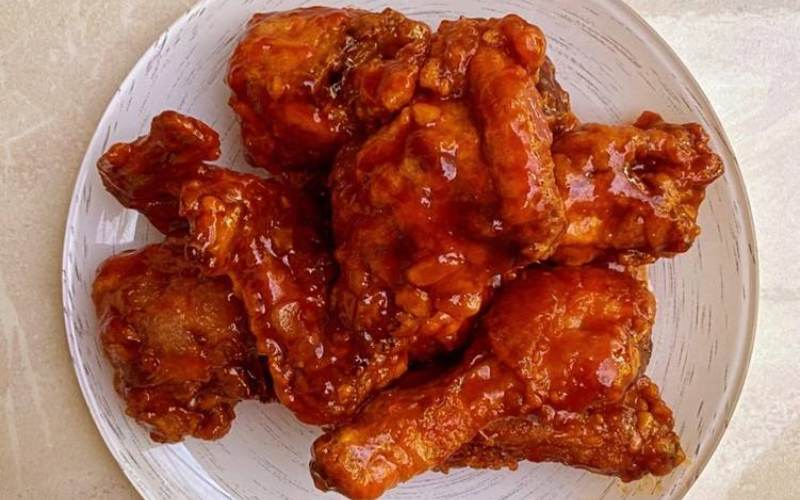Ayam: (326, 265, 679, 475), (311, 77, 594, 317), (88, 268, 268, 425)
